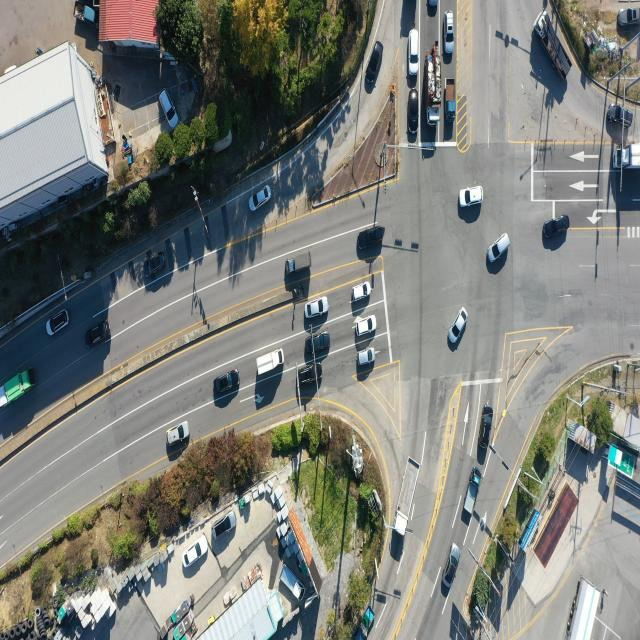car: (160, 86, 179, 132), (184, 537, 209, 570), (444, 543, 462, 588), (449, 308, 468, 346), (480, 409, 495, 457), (608, 96, 632, 126), (87, 321, 112, 349), (488, 234, 510, 265), (213, 370, 240, 395), (47, 309, 71, 337), (357, 226, 383, 251), (367, 40, 382, 82), (295, 363, 320, 388), (214, 513, 236, 541), (167, 421, 191, 446), (305, 332, 330, 356), (408, 88, 421, 134), (251, 185, 273, 212), (542, 216, 569, 238), (304, 297, 328, 321), (410, 28, 421, 75), (459, 186, 483, 207), (144, 254, 168, 274), (356, 314, 377, 336), (618, 6, 640, 26), (350, 282, 370, 302), (356, 347, 375, 367), (446, 12, 455, 54), (428, 0, 439, 18)
medium_truck: (392, 456, 422, 546), (534, 10, 572, 77), (566, 581, 602, 640), (0, 365, 36, 411), (426, 48, 440, 125), (616, 141, 640, 170)
small_truck: (464, 466, 484, 520), (256, 347, 285, 378), (280, 565, 304, 598), (355, 606, 376, 640), (286, 250, 313, 275), (74, 1, 97, 27), (447, 79, 457, 123)
